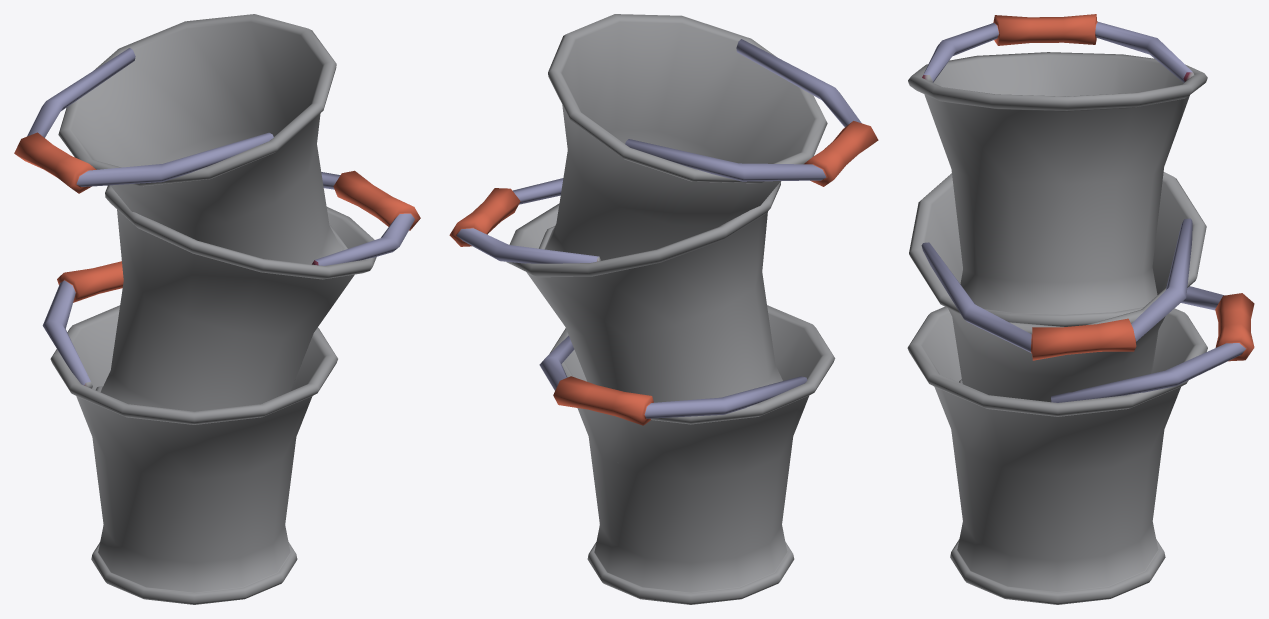
The model's file is BucketPile.fbx.
The picture shows the model from 3 angles, left to right: view 1: azimuth 30°, elevation 25°; view 2: azimuth 150°, elevation 25°; view 3: azimuth 270°, elevation 25°; orthographic projection. The views are drawn at different scales.
Parts seen in each view (by area): view 1: bucket (pile); view 2: bucket (pile); view 3: bucket (pile).
Part boxes in pixels (box(x1,y1,x2,y2)): bucket (pile): box(14, 14, 420, 604); bucket (pile): box(449, 14, 878, 604); bucket (pile): box(907, 14, 1254, 604).
Bounding box in the file's own units: 199 × 254 × 152.
